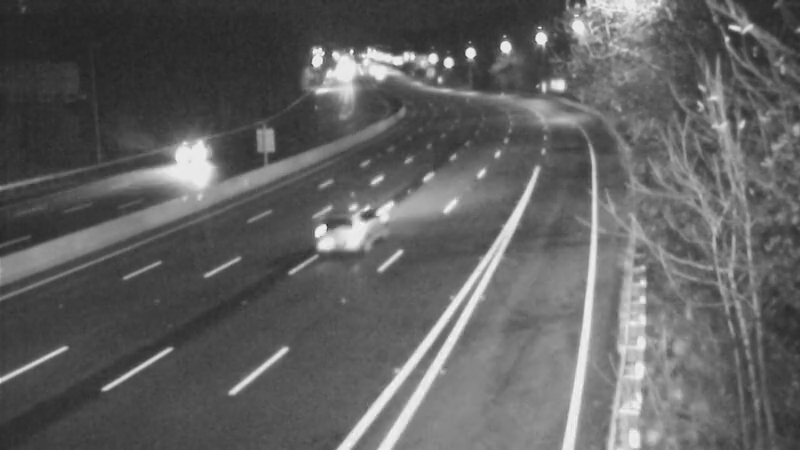vehicle: (299, 188, 379, 268), (145, 120, 225, 200)
